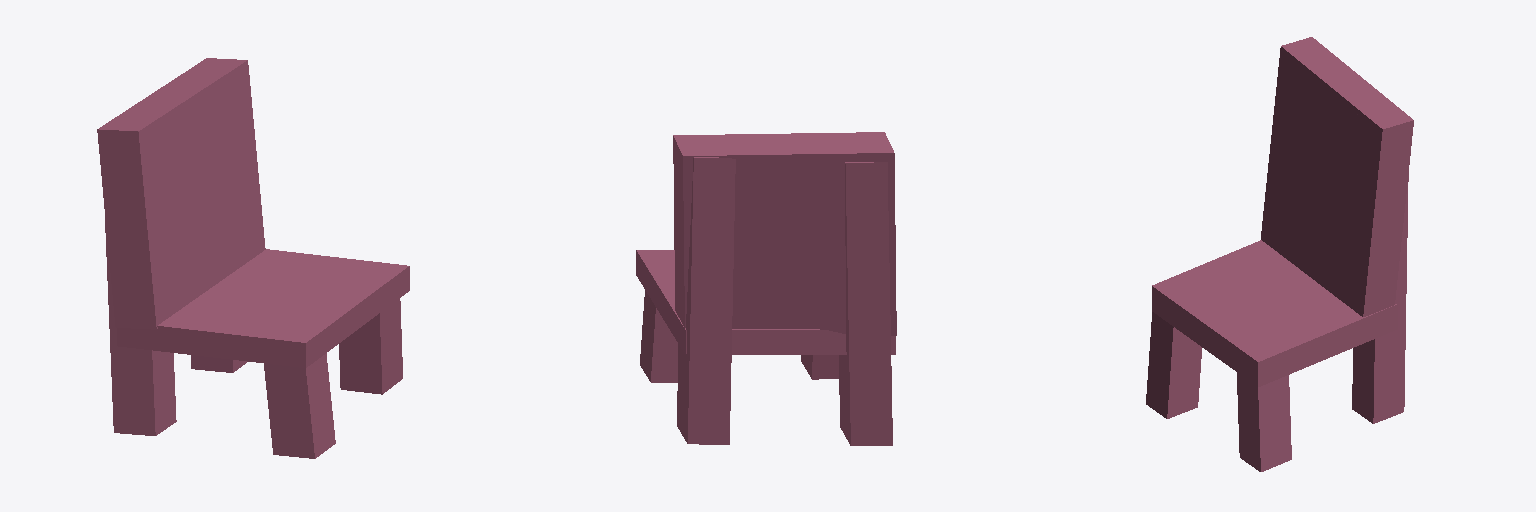
3 views of the same model, side by side, from view 1: azimuth 30°, elevation 25°; view 2: azimuth 150°, elevation 25°; view 3: azimuth 270°, elevation 25° (orthographic).
Visible parts, largest first — view 1: pasted__polySurface46 group12; view 2: pasted__polySurface46 group12; view 3: pasted__polySurface46 group12.
Boxes of the visible parts, x1,y1,x2,y2 form: pasted__polySurface46 group12: [97, 58, 409, 458]; pasted__polySurface46 group12: [636, 132, 896, 445]; pasted__polySurface46 group12: [1146, 37, 1413, 471].
Bounding box in the file's own units: 1.24 × 1.27 × 1.01.
Materials: 1 (1 with a texture image).